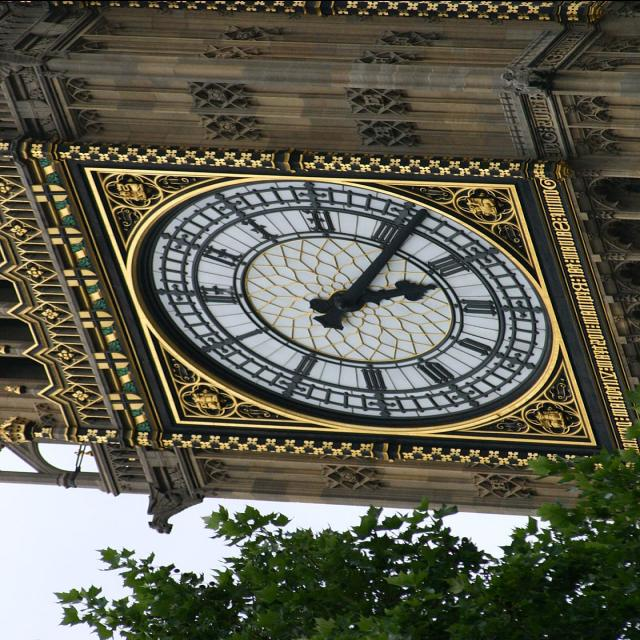clock: (6, 130, 640, 516)
